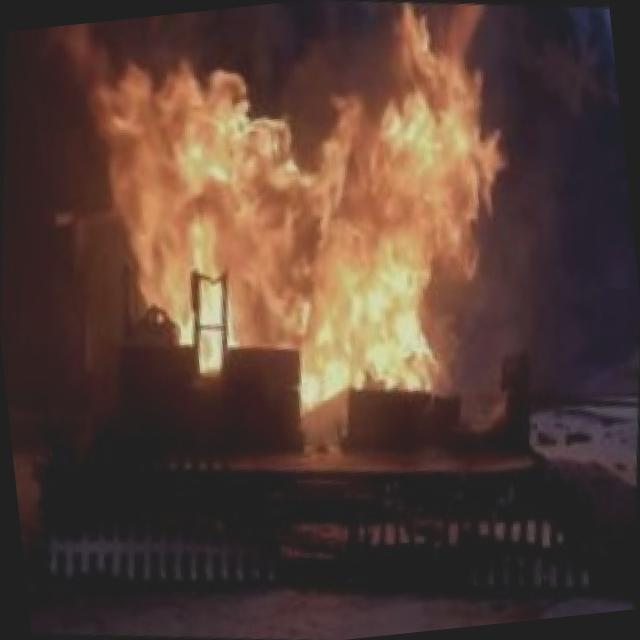fire: (29, 0, 559, 506)
